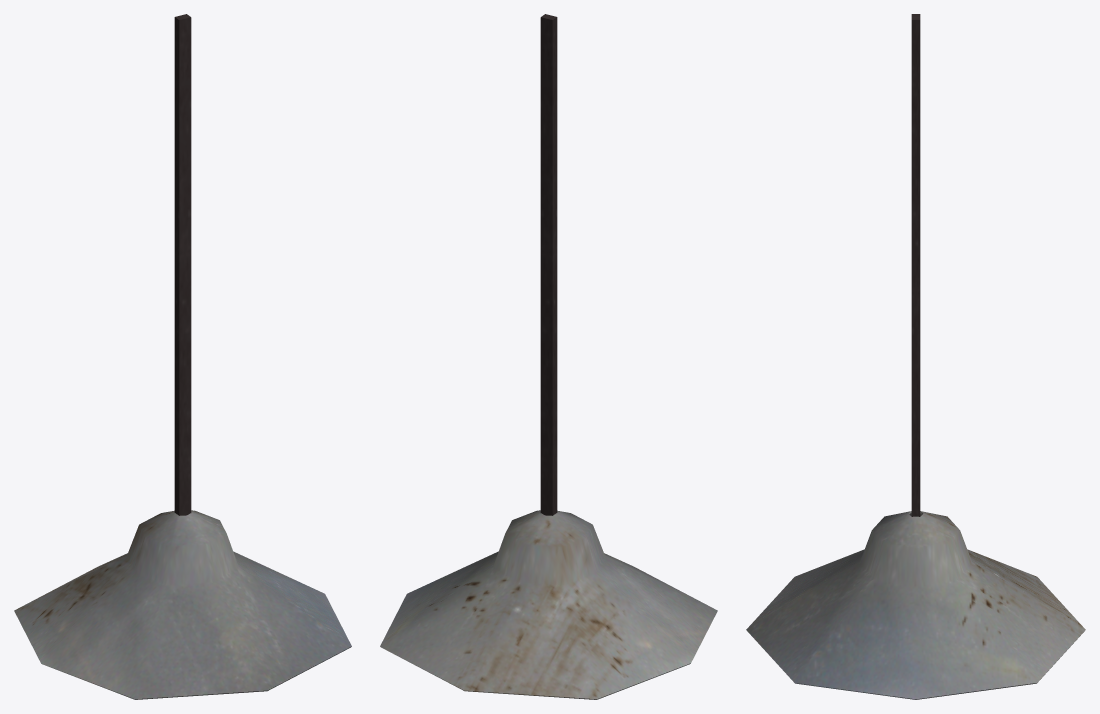
Rendered from mallbil_light06.fbx.
3 renders of one model, left to right at view 1: azimuth 30°, elevation 25°; view 2: azimuth 150°, elevation 25°; view 3: azimuth 270°, elevation 25°, orthographic.
Parts seen in each view (by area): view 1: mallbil_light06; view 2: mallbil_light06; view 3: mallbil_light06.
Boxes of the visible parts, x1,y1,x2,y2 form: mallbil_light06: [14, 14, 351, 699]; mallbil_light06: [380, 14, 717, 699]; mallbil_light06: [746, 14, 1085, 699].
Bounding box in the file's own units: 49.54 × 104 × 51.16.
